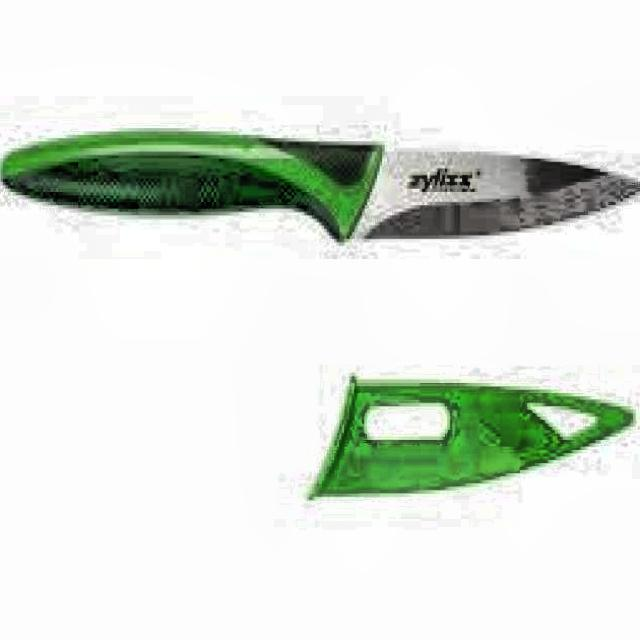knife: (0, 95, 640, 262)
